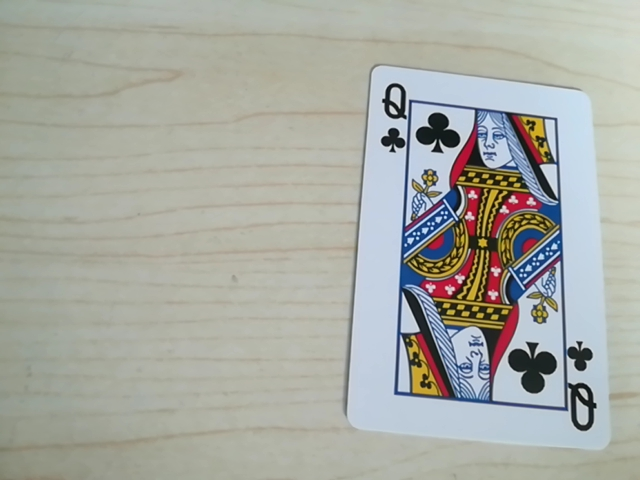mh q: (373, 77, 418, 156), (564, 341, 601, 431)
